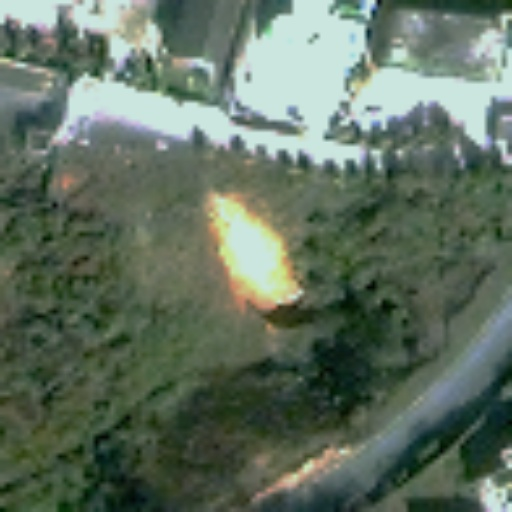landslide: (210, 194, 302, 305)
